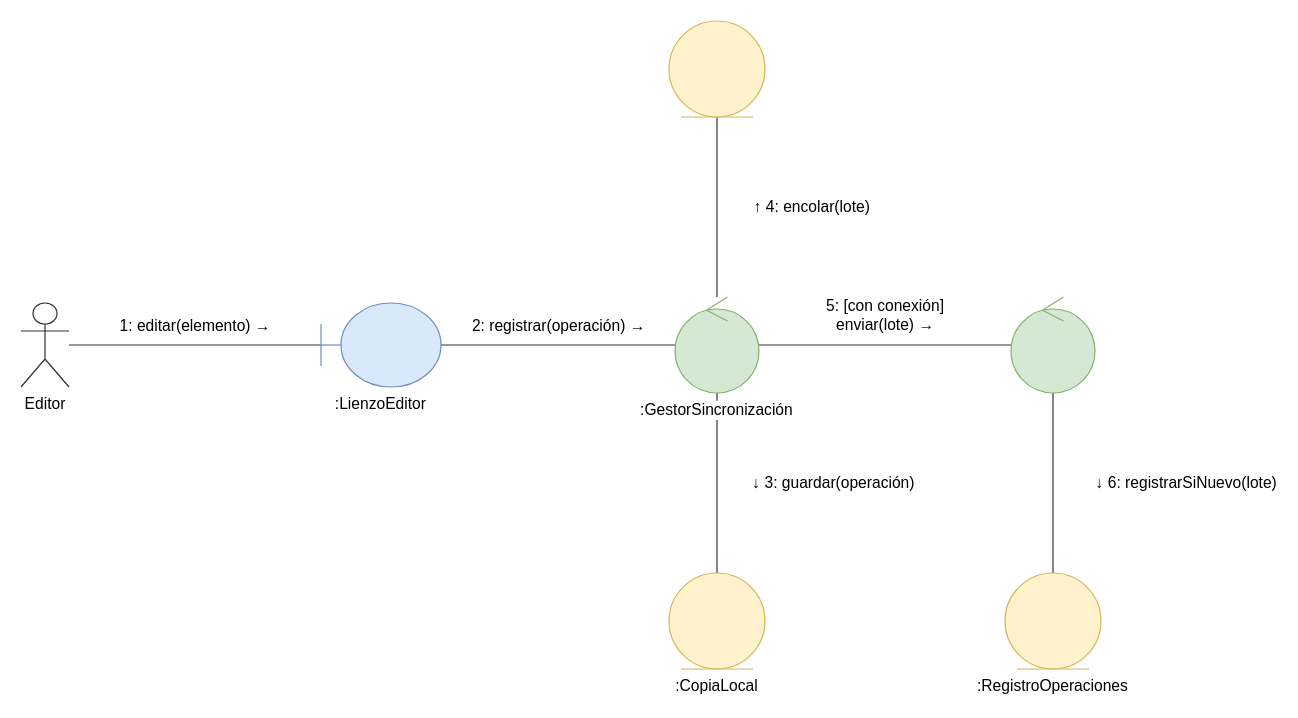
This 1298x718 diagram has some shape labels left out. The shapes that lost their labels are listed below. From the top down, each one's centre as x and y in pixels, then its label:
At (716,68): ":ColaSalida".
At (1052,344): ":ServicioSincronización".
